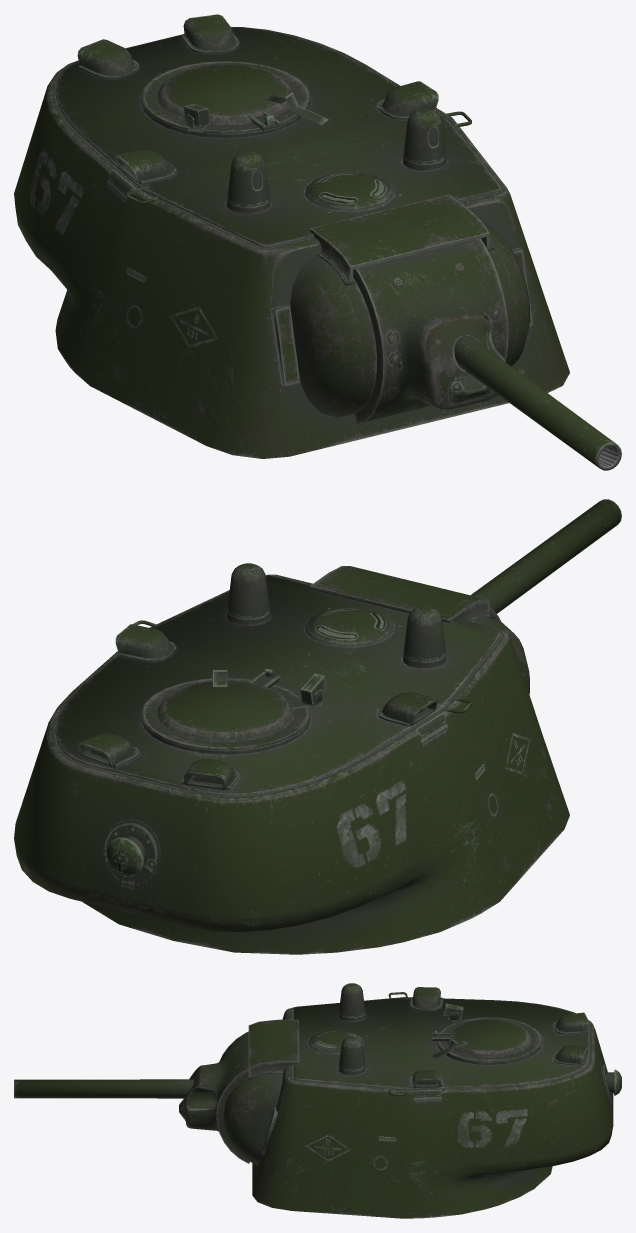
Rendered from tank_tower_kv-1_low-poly.glb.
The picture shows the model from 3 angles, top to bottom: view 1: azimuth 30°, elevation 25°; view 2: azimuth 150°, elevation 25°; view 3: azimuth 270°, elevation 25°; orthographic projection. The views are drawn at different scales.
Visible parts, largest first — view 1: KV_1_BashNya_low.001; view 2: KV_1_BashNya_low.001; view 3: KV_1_BashNya_low.001.
Boxes of the visible parts, x1=… form: KV_1_BashNya_low.001: x1=14, y1=14, x2=621, y2=470; KV_1_BashNya_low.001: x1=14, y1=499, x2=621, y2=954; KV_1_BashNya_low.001: x1=14, y1=983, x2=621, y2=1218.
Bounding box in the file's own units: 192 × 105 × 397.
Materials: 1 (1 with a texture image).
